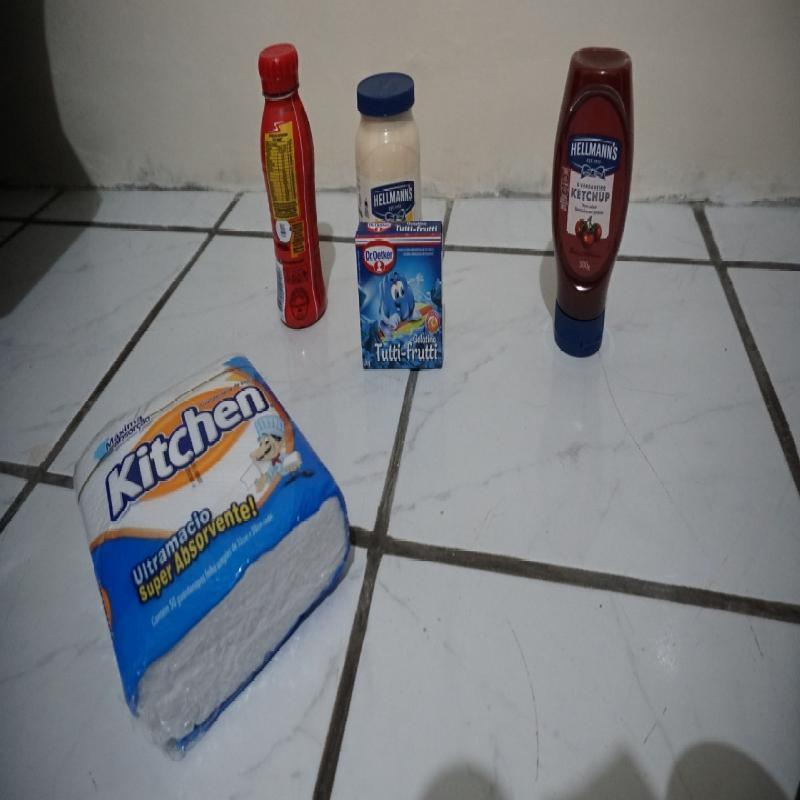Chocolate Milk: (257, 41, 328, 328)
Gelatine: (355, 221, 446, 368)
Ketchup: (550, 44, 637, 360)
Mayonnaise: (357, 72, 421, 220)
Napkin: (71, 351, 356, 752)
